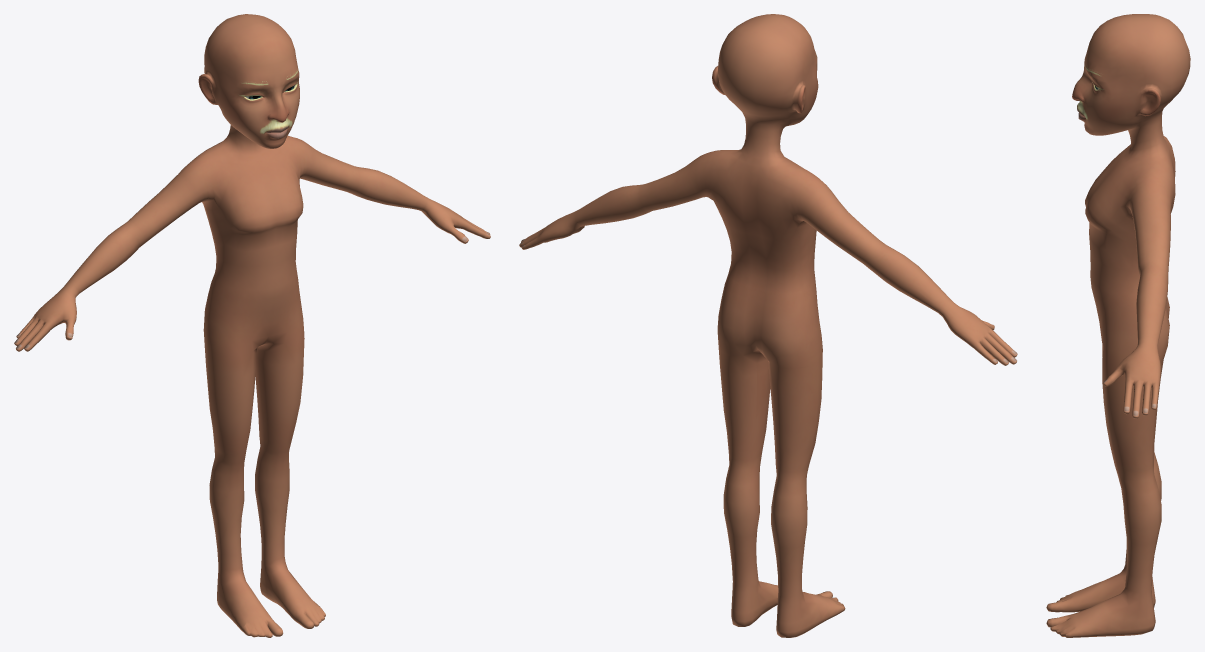
File: frame_0079.glb
3 renders of one model, left to right at view 1: azimuth 30°, elevation 25°; view 2: azimuth 150°, elevation 25°; view 3: azimuth 270°, elevation 25°, orthographic. The views are drawn at different scales.
Parts seen in each view (by area): view 1: frame_0079_head_geo; view 2: frame_0079_head_geo; view 3: frame_0079_head_geo.
Part boxes in pixels (x1=…): frame_0079_head_geo: x1=14, y1=14, x2=490, y2=637; frame_0079_head_geo: x1=519, y1=14, x2=1017, y2=637; frame_0079_head_geo: x1=1046, y1=14, x2=1190, y2=637.
Size of the model in its own units: 1.28 by 1.5 by 0.3253.
3 materials, 3 textured.
